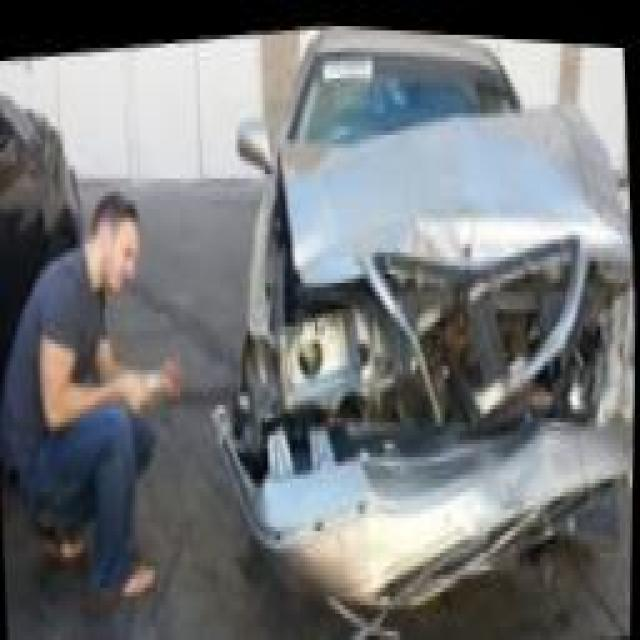Bonnet: (278, 74, 625, 278)
Bumper: (202, 187, 638, 614)
